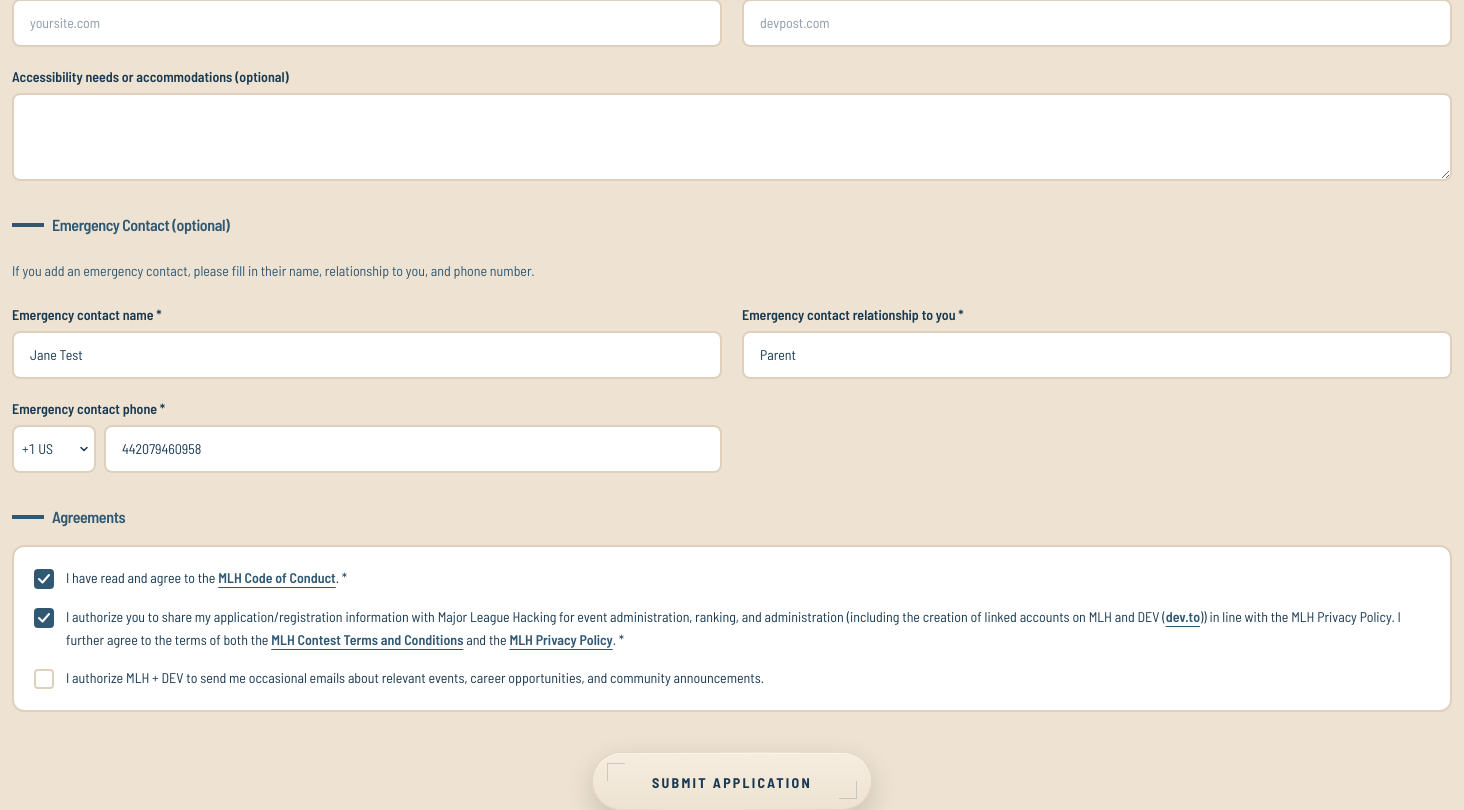
Test case: ApplicationForm submission failures and recovery › shows the closed message instead of a pointless retry when a draft save crosses the cutoff
(page scrolled)
Click the button "Submit application" at point(732, 781), box [592,752,872,809]
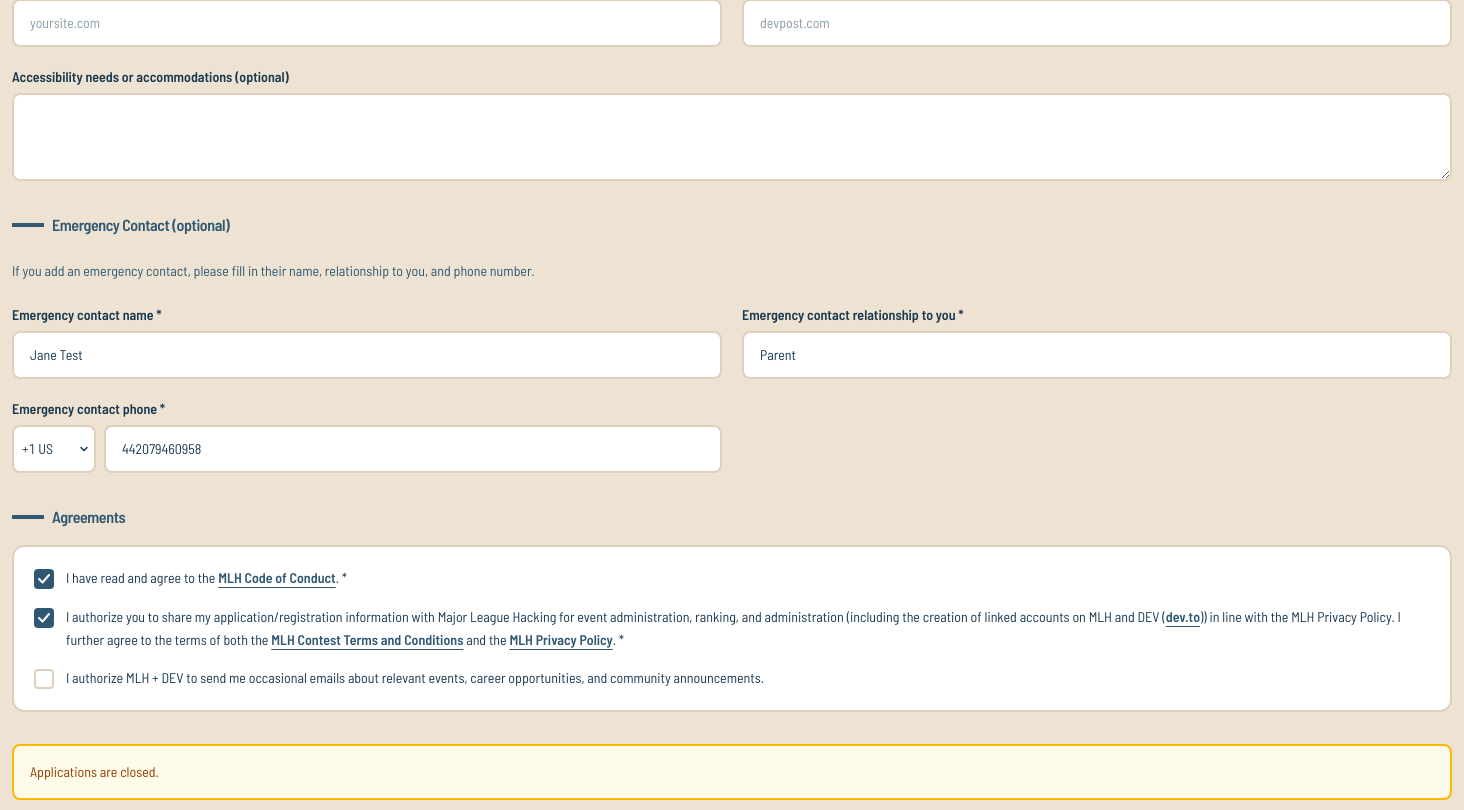
Result: the text "Applications are closed." is shown at [30,763,159,780]
